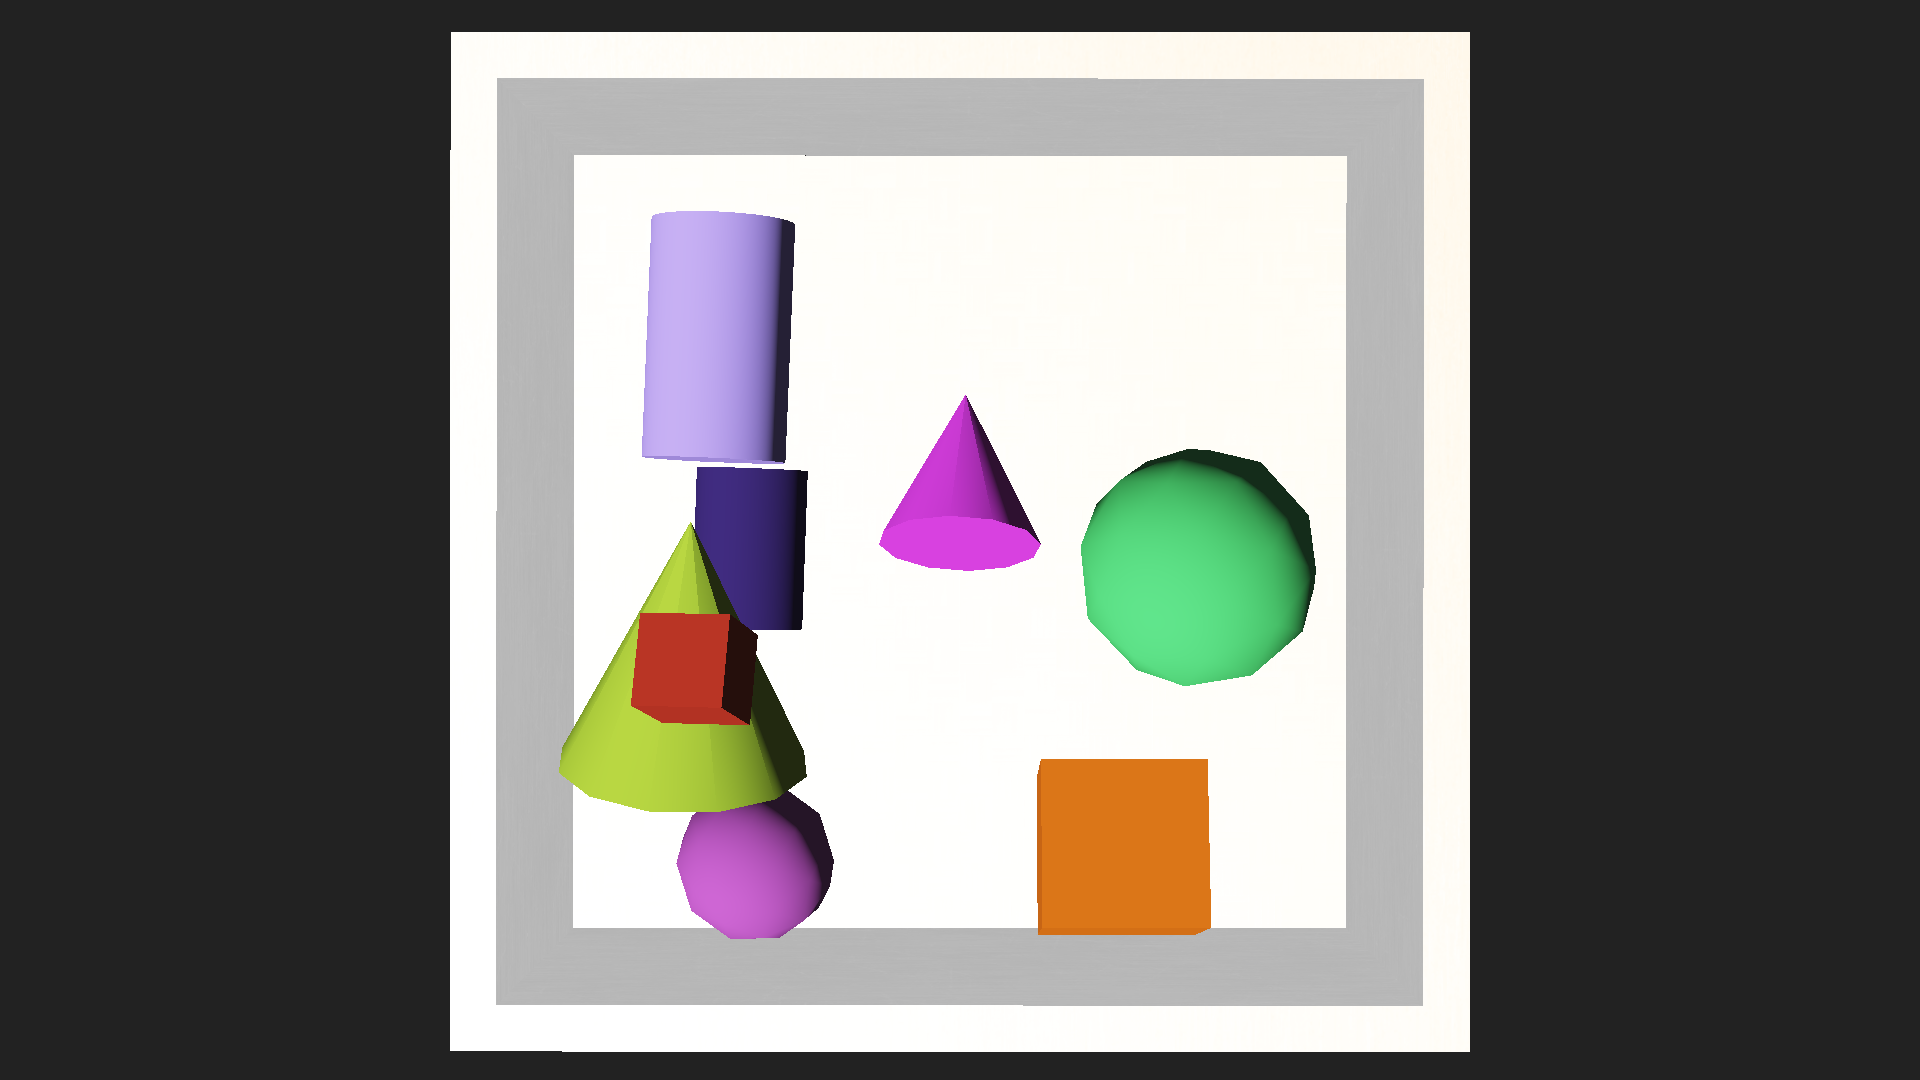3: (1035, 744, 1211, 963), (626, 609, 760, 731)
cone: (632, 208, 799, 464)
cylinder: (874, 359, 1050, 568)
sphere: (1075, 444, 1319, 688), (675, 782, 835, 940)
